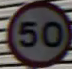Speed limit: (3, 1, 66, 61)
